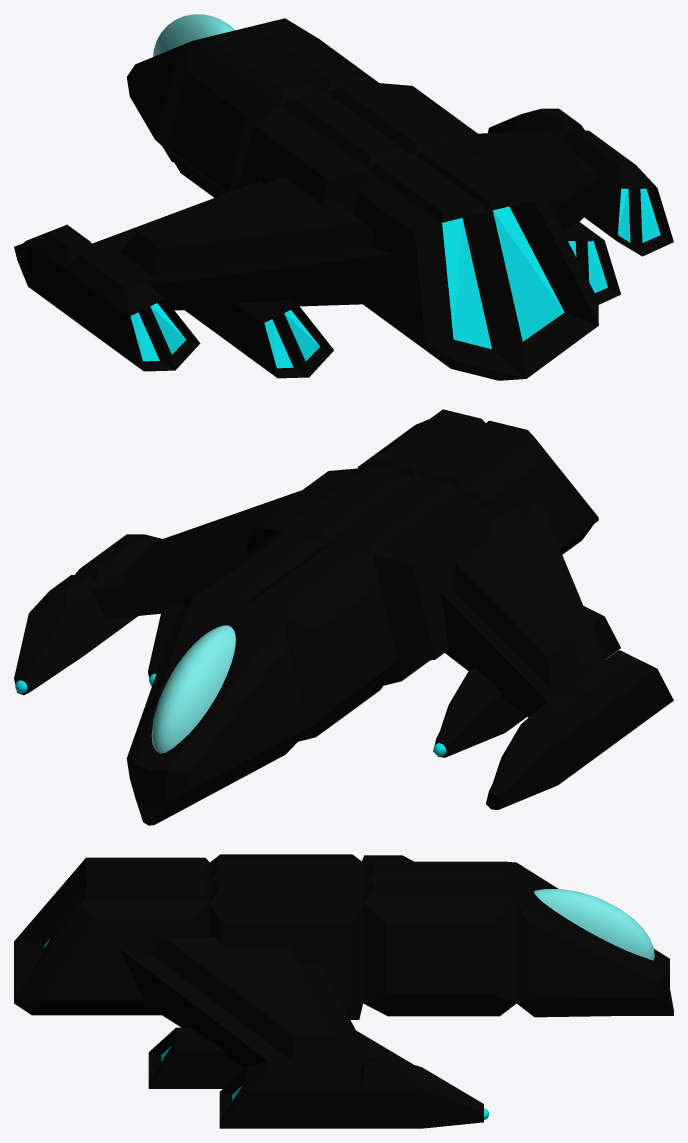
File: spaceship.glb
3 renders of one model, top to bottom at view 1: azimuth 30°, elevation 25°; view 2: azimuth 150°, elevation 25°; view 3: azimuth 270°, elevation 25°, orthographic. The views are drawn at different scales.
Visible parts, largest first — view 1: spaceship; view 2: spaceship; view 3: spaceship.
Part boxes in pixels (x1,y1,x2,y2): spaceship: (14, 14, 673, 380); spaceship: (14, 409, 673, 825); spaceship: (14, 854, 673, 1128).
Size of the model in its own units: 10.75 by 3.26 by 13.28.
5 materials, 2 textured.
